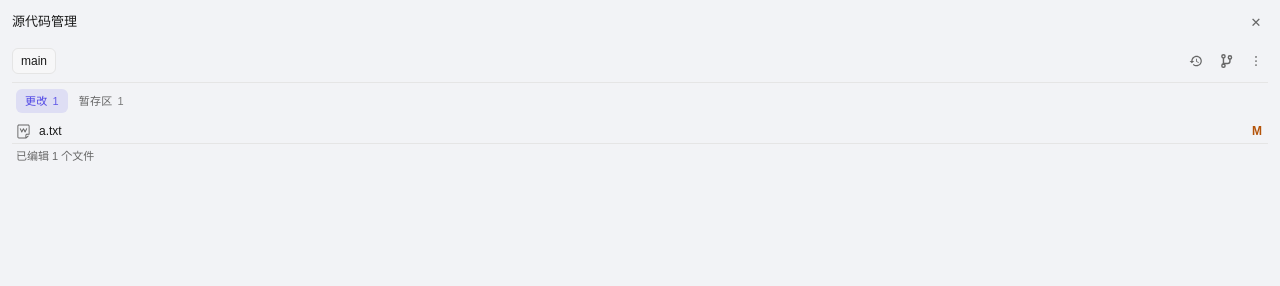
Scenario: tab 顺序是「更改 → 暂存区」，提交区只在暂存那个 tab 下
Click the tab with class "git-tab" showing "暂存区 1": (101, 101) [70,89,133,113]
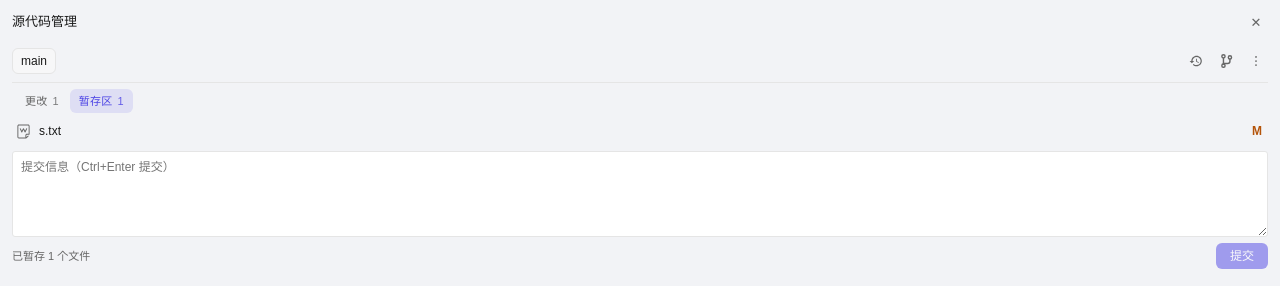
Expected: the text with class "git-tab-name" reads "暂存区", [79,95,112,107]
Result: the element with class "git-commit" is shown at [12,143,1268,269]
